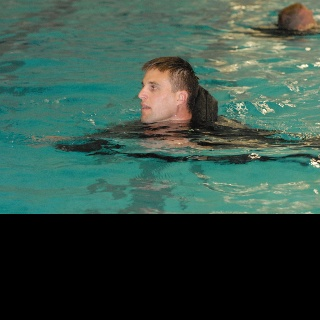without_mask: (138, 55, 199, 124)
